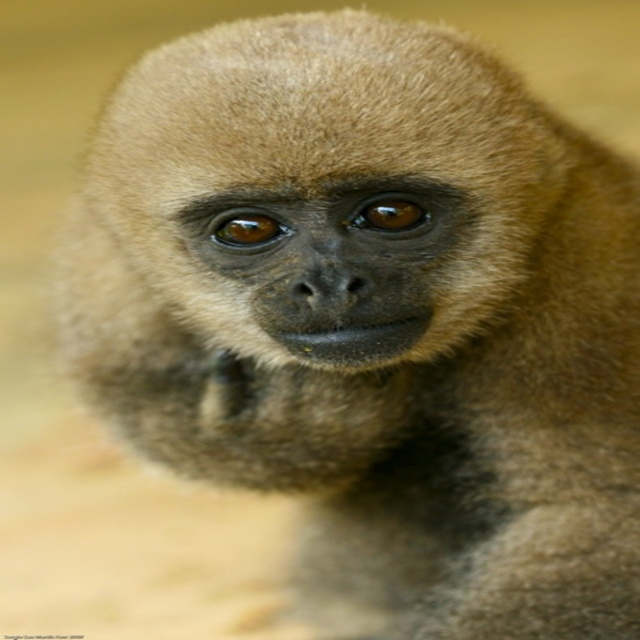Monkey: (34, 0, 640, 640)
